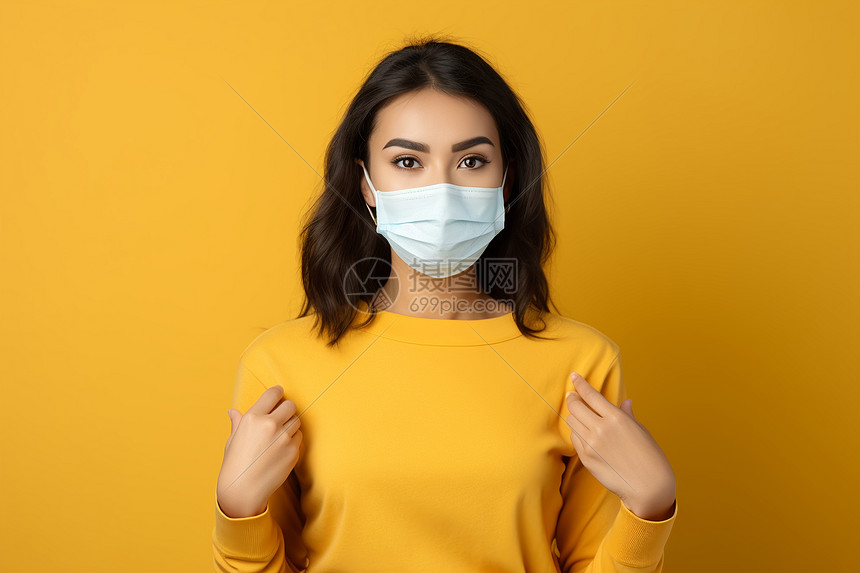with_mask: (356, 67, 514, 281)
